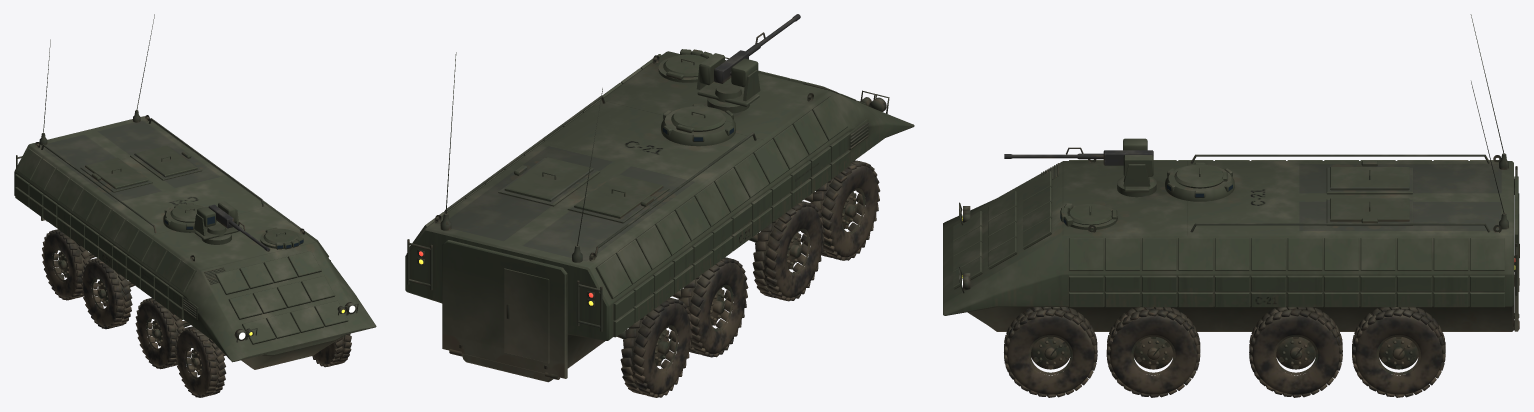
The model's file is m1126_stryker.glb.
3 views of the same model, side by side, from view 1: azimuth 30°, elevation 25°; view 2: azimuth 150°, elevation 25°; view 3: azimuth 270°, elevation 25° (orthographic). The views are drawn at different scales.
Visible parts, largest first — view 1: Hull_Armour, Armour_Tiles, Wheel_1_Right_Mesh, Wheel_3_Right_Mesh, Wheel_2_Right_Mesh, Wheel_4_Right_Mesh, Roof_Fittings, Troop_Hatch_Left_Lid, Troop_Hatch_Right_Lid, RWS_Cradle_Mesh, RWS_Mount, Wheel_1_Left_Mesh (+5 smaller); view 2: Hull_Armour, Armour_Tiles, Ramp_Panel, Wheel_4_Right_Mesh, Wheel_2_Right_Mesh, Wheel_1_Right_Mesh, Wheel_3_Right_Mesh, Ramp_Door_Panel, Roof_Fittings, Troop_Hatch_Left_Lid, Troop_Hatch_Right_Lid, RWS_Cradle_Mesh (+7 smaller); view 3: Hull_Armour, Armour_Tiles, Wheel_1_Left_Mesh, Wheel_3_Left_Mesh, Wheel_2_Left_Mesh, Wheel_4_Left_Mesh, Roof_Fittings, Troop_Hatch_Right_Lid, Troop_Hatch_Left_Lid, RWS_Cradle_Mesh, Commander_Hatch_Lid, RWS_Mount (+3 smaller).
Boxes of the visible parts, x1=… form: Hull_Armour: x1=14, y1=116, x2=376, y2=369; Armour_Tiles: x1=15, y1=120, x2=348, y2=344; Wheel_1_Right_Mesh: x1=175, y1=326, x2=226, y2=397; Wheel_3_Right_Mesh: x1=81, y1=258, x2=132, y2=329; Wheel_2_Right_Mesh: x1=135, y1=298, x2=184, y2=369; Wheel_4_Right_Mesh: x1=42, y1=229, x2=90, y2=300; Roof_Fittings: x1=35, y1=110, x2=304, y2=261; Troop_Hatch_Left_Lid: x1=134, y1=145, x2=197, y2=177; Troop_Hatch_Right_Lid: x1=85, y1=157, x2=148, y2=189; RWS_Cradle_Mesh: x1=197, y1=201, x2=270, y2=251; RWS_Mount: x1=194, y1=209, x2=238, y2=244; Wheel_1_Left_Mesh: x1=312, y1=333, x2=351, y2=367; Hull_Armour: x1=405, y1=51, x2=914, y2=382; Armour_Tiles: x1=406, y1=54, x2=865, y2=337; Ramp_Panel: x1=442, y1=240, x2=567, y2=379; Wheel_4_Right_Mesh: x1=620, y1=298, x2=692, y2=397; Wheel_2_Right_Mesh: x1=752, y1=201, x2=824, y2=301; Wheel_1_Right_Mesh: x1=810, y1=160, x2=880, y2=260; Wheel_3_Right_Mesh: x1=678, y1=257, x2=748, y2=357; Ramp_Door_Panel: x1=504, y1=268, x2=549, y2=363; Roof_Fittings: x1=434, y1=55, x2=813, y2=262; Troop_Hatch_Left_Lid: x1=504, y1=157, x2=593, y2=201; Troop_Hatch_Right_Lid: x1=574, y1=174, x2=663, y2=218; RWS_Cradle_Mesh: x1=699, y1=14, x2=800, y2=87; Hull_Armour: x1=943, y1=161, x2=1513, y2=331; Armour_Tiles: x1=953, y1=160, x2=1504, y2=307; Wheel_1_Left_Mesh: x1=1004, y1=307, x2=1097, y2=397; Wheel_3_Left_Mesh: x1=1249, y1=307, x2=1342, y2=397; Wheel_2_Left_Mesh: x1=1106, y1=307, x2=1200, y2=397; Wheel_4_Left_Mesh: x1=1352, y1=307, x2=1445, y2=397; Roof_Fittings: x1=1088, y1=153, x2=1508, y2=232; Troop_Hatch_Right_Lid: x1=1330, y1=161, x2=1409, y2=190; Troop_Hatch_Left_Lid: x1=1330, y1=198, x2=1409, y2=223; RWS_Cradle_Mesh: x1=1004, y1=138, x2=1153, y2=176; Commander_Hatch_Lid: x1=1174, y1=164, x2=1227, y2=188; RWS_Mount: x1=1117, y1=164, x2=1156, y2=197.
Bounding box in the file's own units: 2.72 × 4.07 × 6.96.
6 materials, 2 textured.
